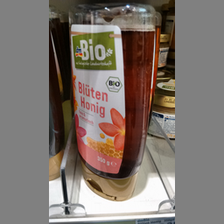honey: (65, 4, 157, 203)
